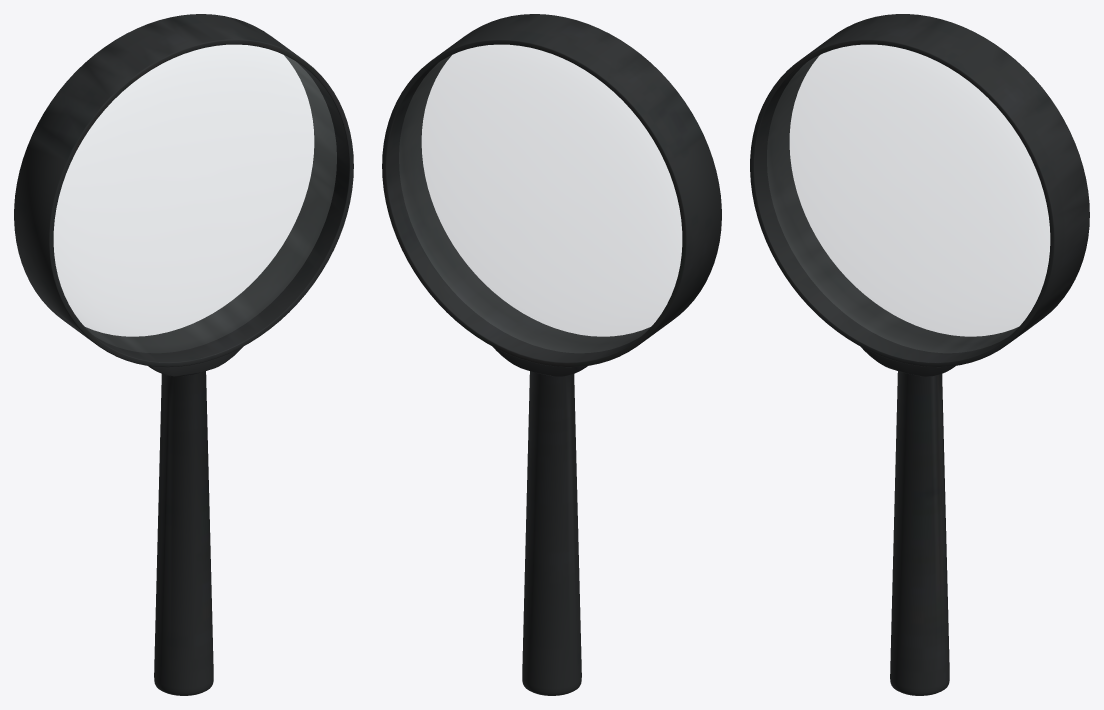
The model's file is magnifying_glass_01.glb.
The picture shows the model from 3 angles, left to right: view 1: azimuth 30°, elevation 25°; view 2: azimuth 150°, elevation 25°; view 3: azimuth 330°, elevation 25°; orthographic projection.
Parts seen in each view (by area): view 1: magnifying_glass_01; view 2: magnifying_glass_01; view 3: magnifying_glass_01.
Part boxes in pixels (x1,y1,x2,y2): magnifying_glass_01: [14, 14, 353, 695]; magnifying_glass_01: [382, 14, 721, 695]; magnifying_glass_01: [750, 14, 1089, 695].
Bounding box in the file's own units: 0.1321 × 0.2716 × 0.0267.
Materials: 2 (1 with a texture image).
